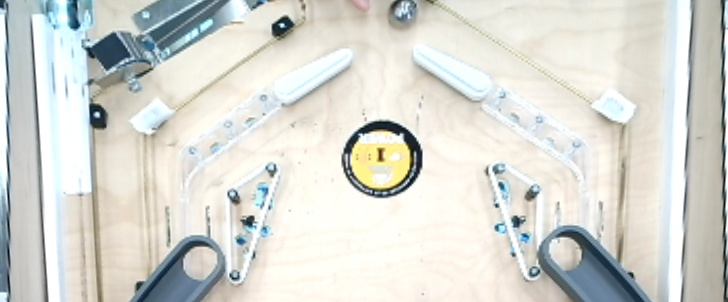ball: (383, 0, 424, 30)
flipper-left: (406, 40, 498, 107)
flipper-right: (266, 45, 359, 107)
